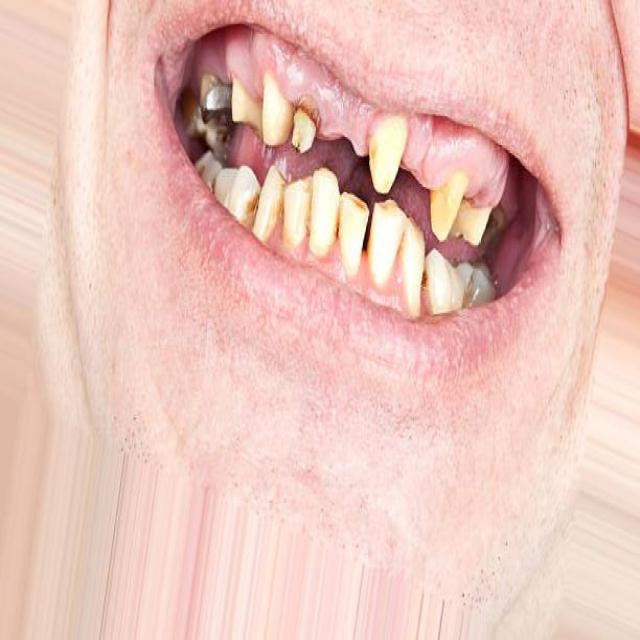caries: (190, 68, 239, 152), (280, 78, 324, 160), (297, 177, 316, 256), (240, 178, 268, 228), (269, 179, 290, 244)
